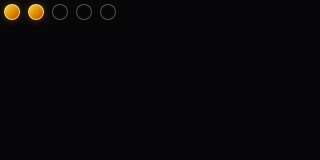
it: PipTrack › sets the rating on click and lowers it by one when the current pip is clicked
What coordinates should you click on to do the following:
click the slider named "Rage"
I would click on:
 (60, 12)
Its box is [0,0,120,24].
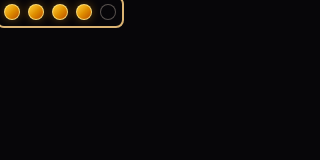
Result: the slider named "Rage" has attribute aria-valuenow="4"
What coordinates should you click on to do the following:
click the slider named "Rage"
I would click on:
 (60, 12)
Its box is [0,0,120,24].
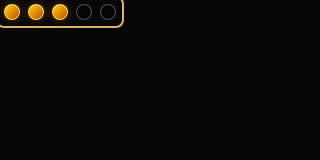
Result: the slider named "Rage" has attribute aria-valuenow="3"
What coordinates should you click on to do the following:
click the slider named "Rage"
I would click on:
 (60, 12)
Its box is [0,0,120,24].
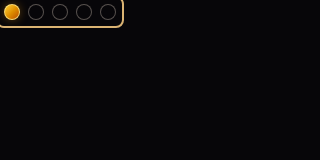
Result: the slider named "Rage" has attribute aria-valuenow="1"
What coordinates should you click on to do the following:
click the slider named "Rage"
I would click on:
 (60, 12)
Its box is [0,0,120,24].
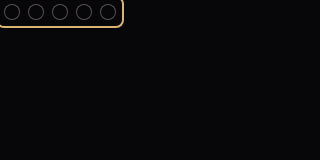
Result: the slider named "Rage" has attribute aria-valuenow="0" at [0,0,120,24]
